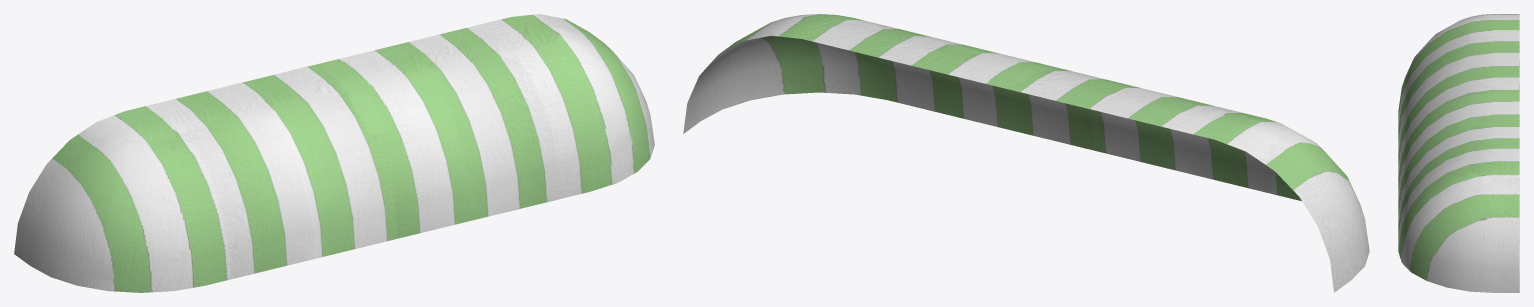
File: umbrella_1.glb
3 renders of one model, left to right at view 1: azimuth 30°, elevation 25°; view 2: azimuth 150°, elevation 25°; view 3: azimuth 270°, elevation 25°, orthographic. The views are drawn at different scales.
Visible parts, largest first — view 1: umbrella_1; view 2: umbrella_1; view 3: umbrella_1.
Part boxes in pixels (x1,y1,x2,y2): umbrella_1: [14, 14, 654, 292]; umbrella_1: [683, 14, 1369, 292]; umbrella_1: [1398, 14, 1519, 292].
Bounding box in the file's own units: 3.89 × 0.7093 × 0.8897.
1 material, 1 textured.
